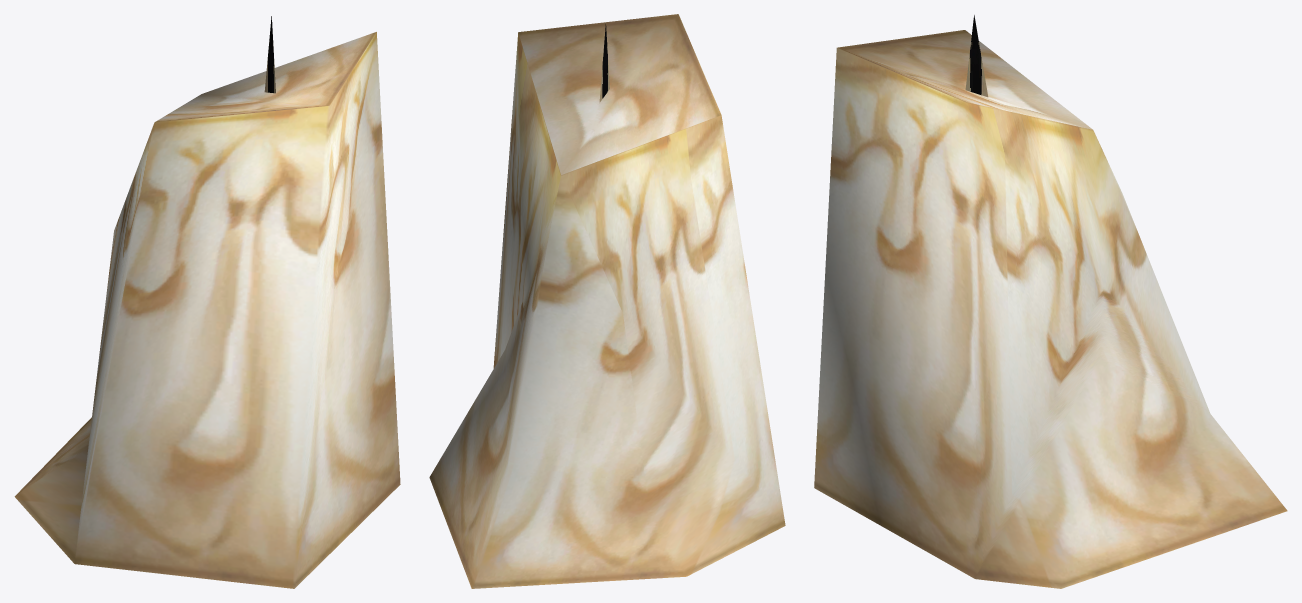
The model's file is candle03.obj.
3 renders of one model, left to right at view 1: azimuth 30°, elevation 25°; view 2: azimuth 150°, elevation 25°; view 3: azimuth 270°, elevation 25°, orthographic. The views are drawn at different scales.
Parts seen in each view (by area): view 1: Geoset0, Geoset1; view 2: Geoset0; view 3: Geoset0, Geoset1.
Boxes of the visible parts, x1=… form: Geoset0: x1=14, y1=32, x2=400, y2=588; Geoset1: x1=264, y1=16, x2=275, y2=93; Geoset0: x1=429, y1=14, x2=785, y2=588; Geoset0: x1=814, y1=30, x2=1287, y2=588; Geoset1: x1=965, y1=15, x2=988, y2=97.
Bounding box in the file's own units: 0.3089 × 0.4283 × 0.3662.
2 materials, 2 textured.
